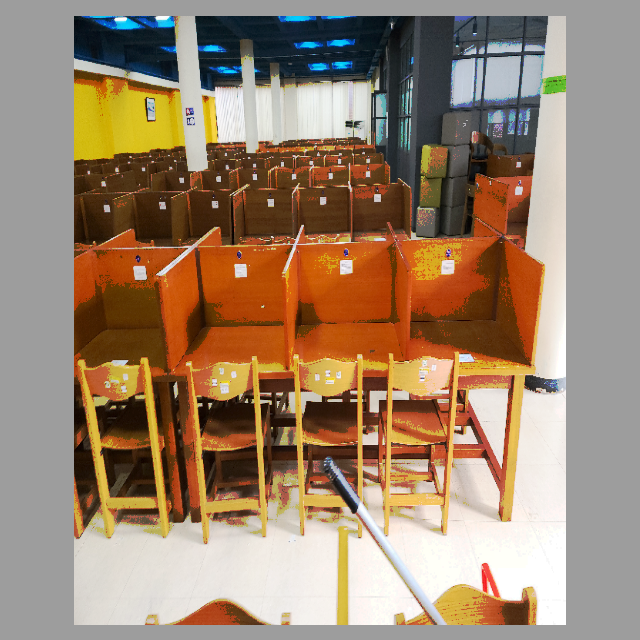empty: (408, 244, 536, 464), (161, 256, 287, 457), (291, 246, 406, 446)
